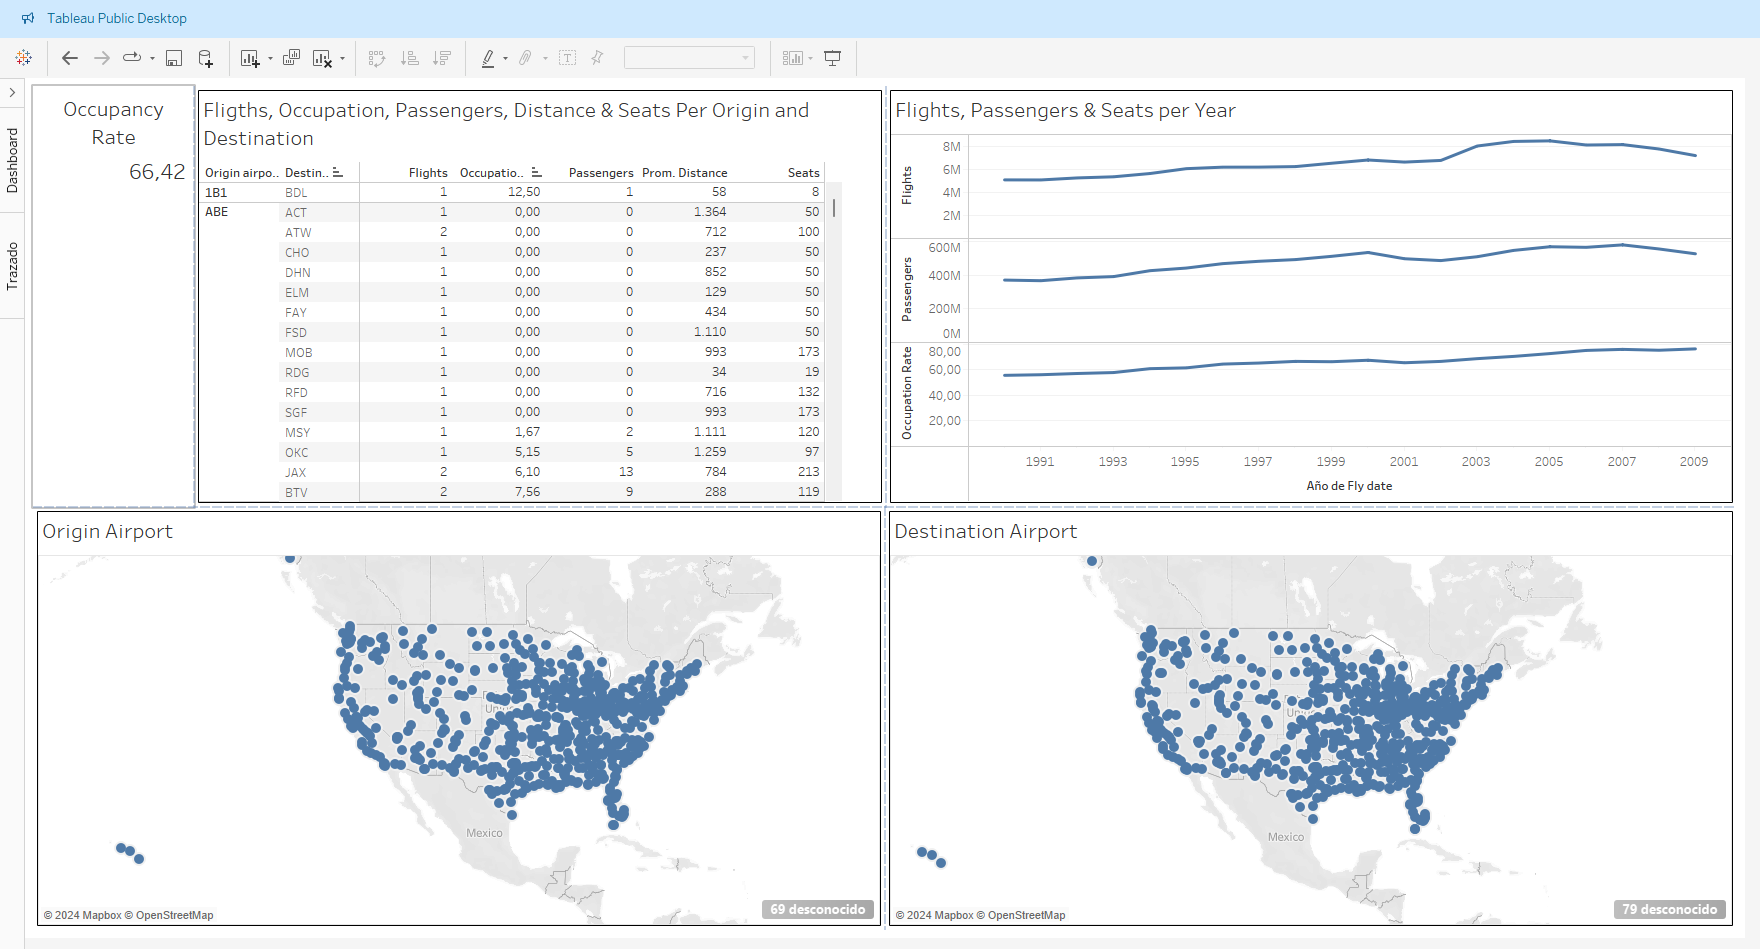

What the dashboard file says about the page in this screenshot:
{"tool":"tableau","page":{"name":"Dashboard 1","canvas":[1000,1000],"units":"permille","ordinal":0},"visuals":[{"type":"worksheet","title":"Hoja 1","mark":"Automatic","box":[4.7,9.3,93.5,490.1]},{"type":"worksheet","title":"Hoja 5 (2)","mark":"Automatic","rows":["Origin_airport","Destination_airport"],"box":[98.1,9.3,402.2,490.1]},{"type":"worksheet","title":"Hoja 4","mark":"Automatic","rows":["Flights","Passengers","Calculation_1060597729947295744"],"cols":["Fly_date"],"box":[500.3,9.3,495.1,490.1]},{"type":"worksheet","title":"Hoja 8","mark":"Automatic","box":[4.7,499.4,495.4,491.3]},{"type":"worksheet","title":"Hoja 8 (2)","mark":"Automatic","box":[500,499.4,495.4,491.3]}]}

Visuals, with their boxes on the dashboard's canvas, which has no fixed pixel size, in thousandths of its width and height (x1, y1, x2, y2). These are canvas units, not pixel positions in the 1760x949 screenshot, which may show the page scaled, cropped or inside an application window:
"Hoja 1" worksheet: {"x1": 5, "y1": 9, "x2": 98, "y2": 499}
"Hoja 5 (2)" worksheet: {"x1": 98, "y1": 9, "x2": 500, "y2": 499}
"Hoja 4" worksheet: {"x1": 500, "y1": 9, "x2": 995, "y2": 499}
"Hoja 8" worksheet: {"x1": 5, "y1": 499, "x2": 500, "y2": 991}
"Hoja 8 (2)" worksheet: {"x1": 500, "y1": 499, "x2": 995, "y2": 991}
